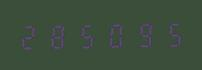eight: (45, 20, 72, 50)
five: (74, 20, 101, 49), (158, 19, 185, 48)
nine: (130, 19, 157, 49)
two: (17, 21, 44, 50)
zero: (102, 19, 129, 49)
